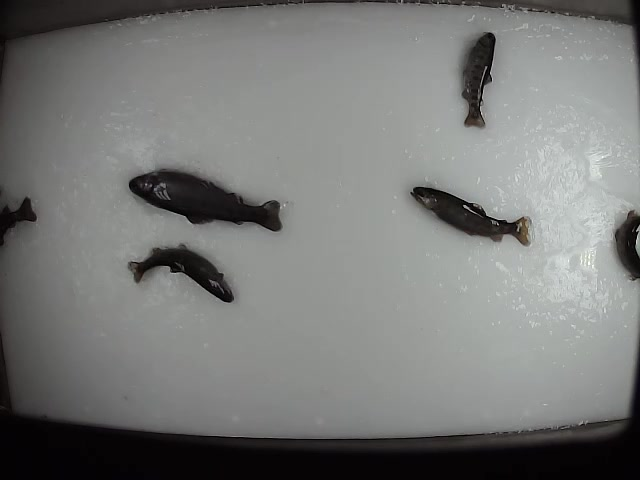fish: (127, 167, 285, 233), (409, 182, 535, 249), (127, 241, 235, 302), (457, 30, 502, 130)
